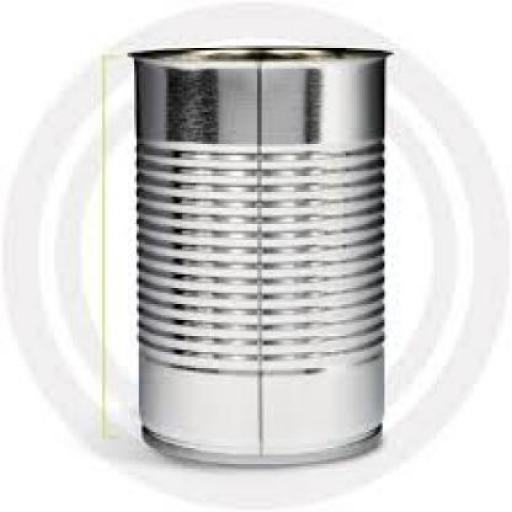metal: (125, 48, 396, 466)
